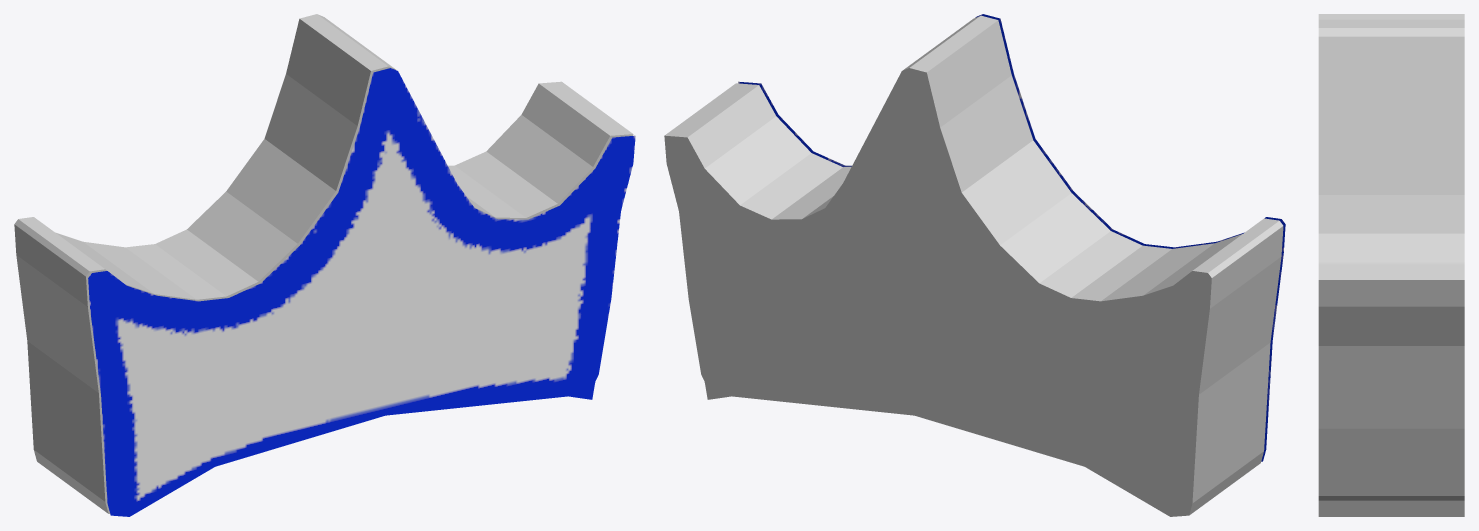
3 renders of one model, left to right at view 1: azimuth 30°, elevation 25°; view 2: azimuth 150°, elevation 25°; view 3: azimuth 270°, elevation 25°, orthographic. The views are drawn at different scales.
Parts seen in each view (by area): view 1: In_1_1, In_1_0; view 2: In_1_0, In_1_1; view 3: In_1_0.
Boxes of the visible parts, left/top/right/bottom form: In_1_1: left=88, top=68, right=635, bottom=516; In_1_0: left=14, top=14, right=633, bottom=513; In_1_0: left=664, top=15, right=1283, bottom=516; In_1_1: left=738, top=14, right=1285, bottom=461; In_1_0: left=1318, top=14, right=1464, bottom=516.
Bounding box in the file's own units: 2.21 × 1.48 × 0.515.
Materials: 2 (1 with a texture image).
